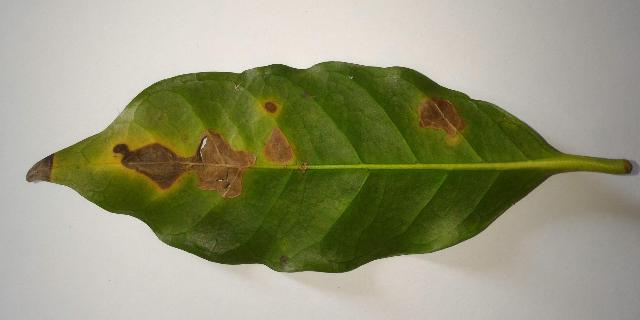cercospora: (101, 130, 256, 198), (417, 96, 467, 145), (262, 127, 294, 167), (26, 152, 57, 183), (261, 99, 281, 116)
